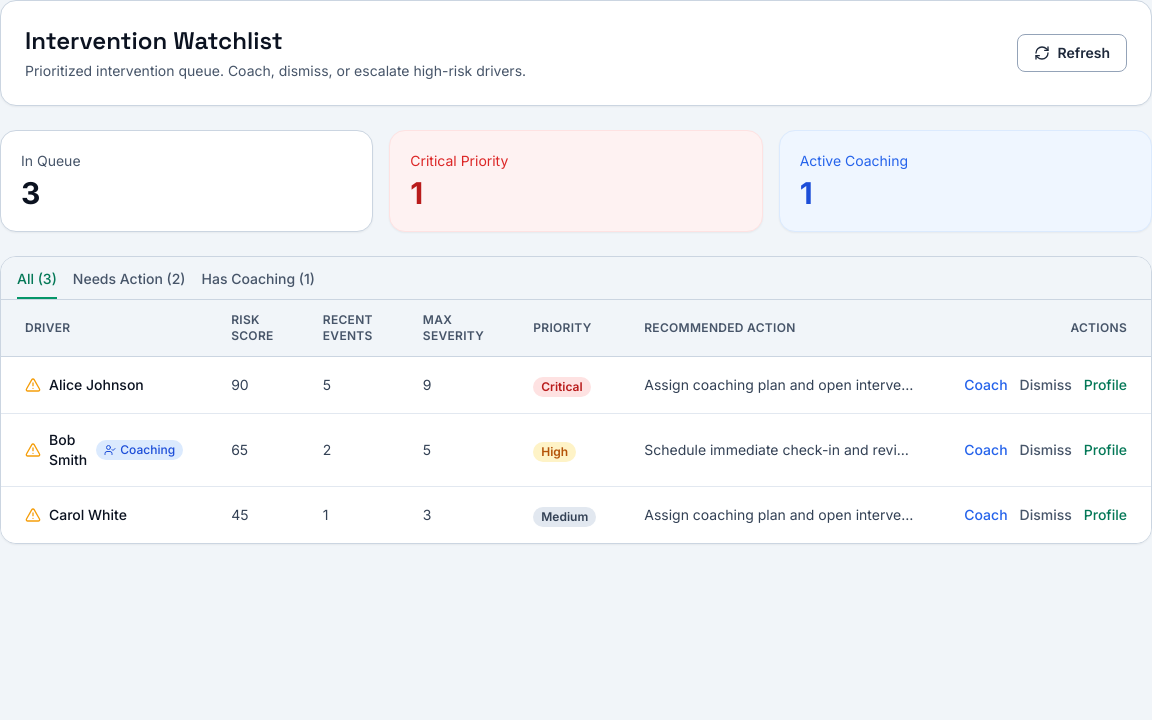
Test: Watchlist page › opens dismiss modal when Dismiss is clicked
Expected: the text "Alice Johnson" is shown, x1=49 y1=375 x2=144 y2=395
Click the button "Dismiss" in the row of "Alice Johnson" at coordinates (1046, 385), box x1=1020 y1=375 x2=1072 y2=395
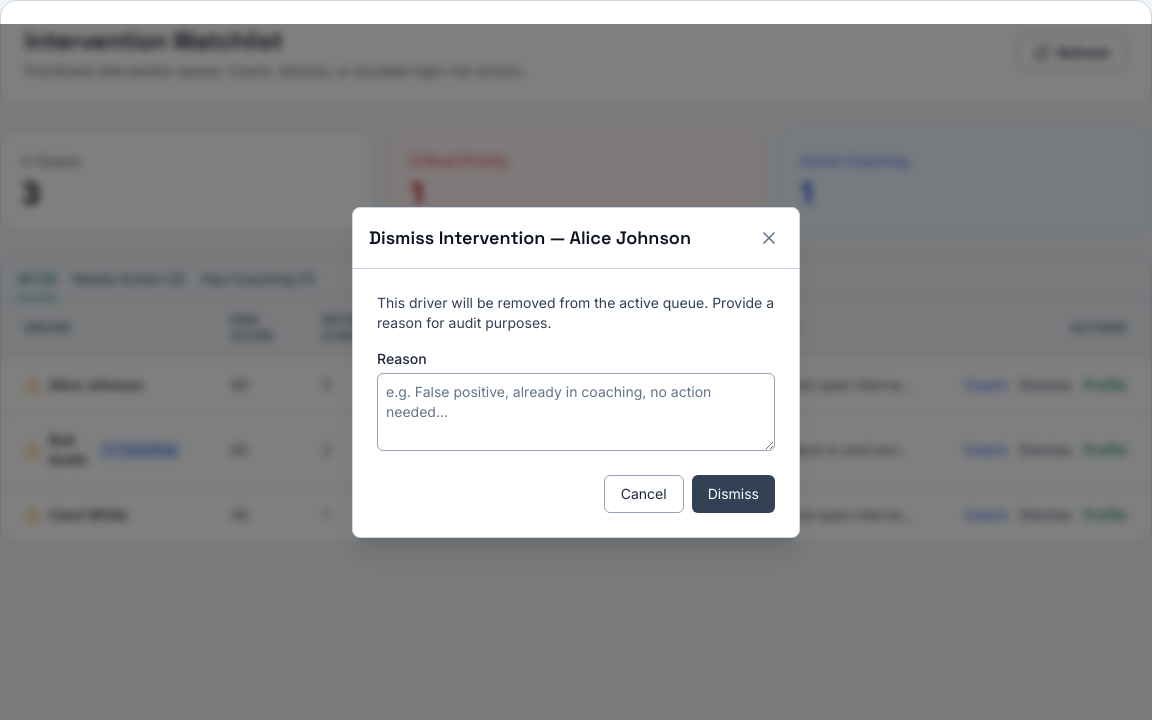
Now the dialog "Dismiss Intervention" is shown, box x1=352 y1=206 x2=800 y2=538
